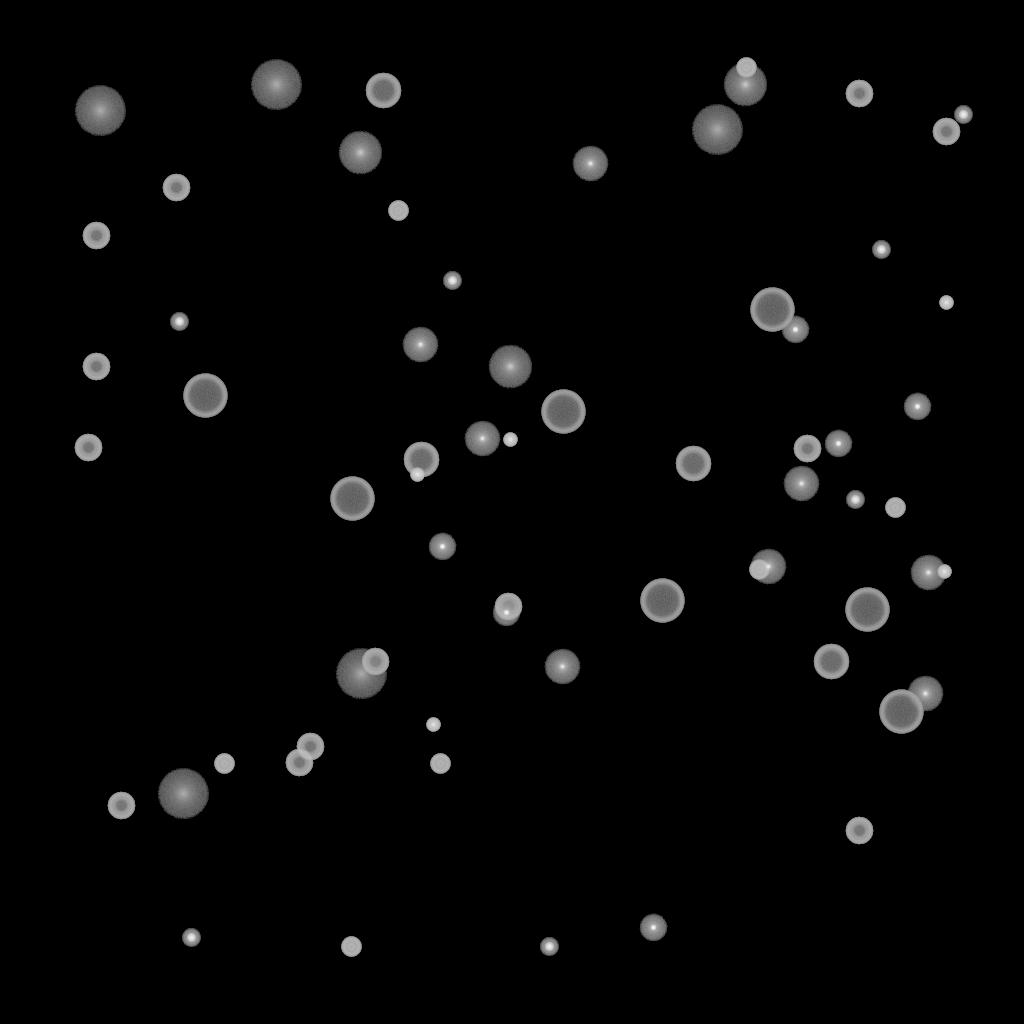depth:-10: (428, 533, 456, 561), (781, 316, 809, 344), (903, 393, 931, 421), (824, 430, 852, 458), (492, 599, 520, 627), (639, 914, 667, 942)
depth:-20: (954, 106, 972, 124), (846, 491, 864, 509), (182, 929, 200, 947), (540, 938, 558, 956), (443, 272, 461, 290), (170, 313, 188, 331), (872, 241, 890, 259)
depth:-30: (937, 565, 951, 579), (426, 718, 440, 732), (939, 296, 953, 310), (503, 433, 517, 447), (410, 468, 424, 482)
depth:-40: (885, 498, 905, 518), (341, 937, 361, 957), (749, 560, 769, 580), (736, 58, 756, 78), (388, 201, 408, 221), (214, 754, 234, 774), (430, 754, 450, 774)
depth:-50: (793, 435, 821, 463), (845, 817, 873, 845), (932, 118, 960, 146), (82, 353, 110, 381), (361, 648, 389, 676), (285, 749, 313, 777), (107, 792, 135, 820), (296, 733, 324, 761), (74, 434, 102, 462), (845, 80, 873, 108), (494, 593, 522, 621), (82, 222, 110, 250), (162, 174, 190, 202)
depth:-60: (813, 644, 849, 680), (365, 73, 401, 109), (675, 446, 711, 482), (403, 442, 439, 478)
depth:-70: (330, 477, 374, 521), (750, 288, 794, 332), (879, 690, 923, 734), (845, 588, 889, 632), (640, 579, 684, 623), (541, 390, 585, 434), (183, 374, 227, 418)
depth:0: (910, 555, 946, 591), (907, 676, 943, 712), (544, 649, 580, 685), (572, 146, 608, 182), (402, 327, 438, 363), (750, 549, 786, 585), (464, 421, 500, 457), (783, 466, 819, 502)
depth:10: (723, 63, 767, 107), (488, 345, 532, 389), (338, 131, 382, 175)
depth:20: (157, 769, 209, 819), (691, 105, 743, 155), (250, 60, 302, 110), (335, 649, 387, 699), (74, 86, 126, 136)
